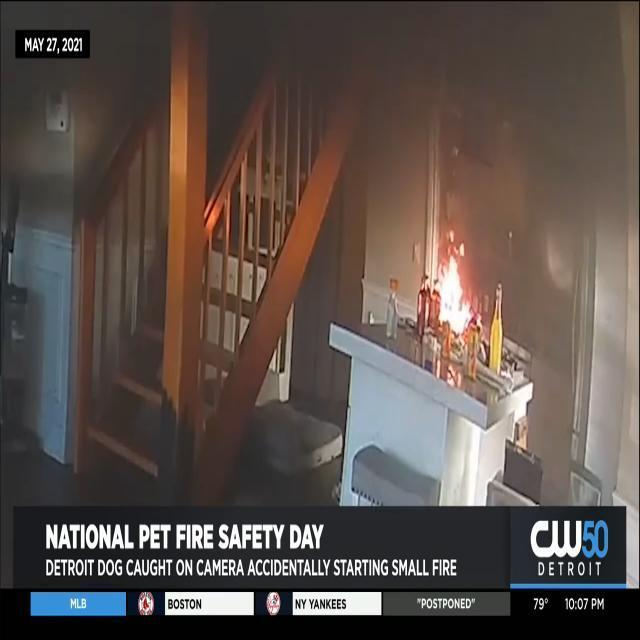Fire: (430, 231, 477, 338)
